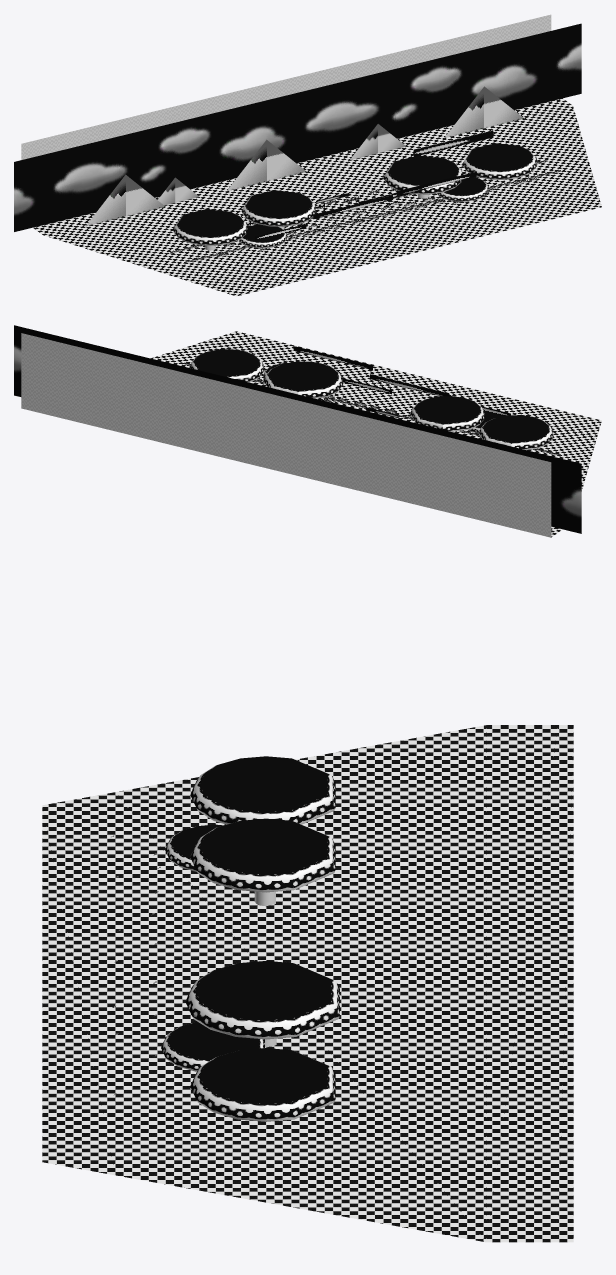
The model's file is CourseBackGroundW4.dae.
3 renders of one model, top to bottom at view 1: azimuth 30°, elevation 25°; view 2: azimuth 150°, elevation 25°; view 3: azimuth 270°, elevation 25°, orthographic. The views are drawn at different scales.
Parts seen in each view (by area): view 1: CourseBackGroundW4.001, CourseBackGroundW4.004, CourseBackGroundW4.007, CourseBackGroundW4, CourseBackGroundW4.005, CourseBackGroundW4.003, CourseBackGroundW4.002, CourseBackGroundW4.006; view 2: CourseBackGroundW4, CourseBackGroundW4.007, CourseBackGroundW4.001, CourseBackGroundW4.005, CourseBackGroundW4.004, CourseBackGroundW4.002, CourseBackGroundW4.006; view 3: CourseBackGroundW4.004, CourseBackGroundW4.007, CourseBackGroundW4.005.
Part boxes in pixels (x1,y1,x2,y2): CourseBackGroundW4.001: (14, 23, 581, 231); CourseBackGroundW4.004: (33, 98, 596, 286); CourseBackGroundW4.007: (173, 143, 536, 250); CourseBackGroundW4: (21, 14, 551, 159); CourseBackGroundW4.005: (205, 190, 601, 296); CourseBackGroundW4.003: (86, 86, 523, 226); CourseBackGroundW4.002: (255, 130, 493, 240); CourseBackGroundW4.006: (170, 160, 560, 263); CourseBackGroundW4: (21, 333, 551, 537); CourseBackGroundW4.007: (189, 349, 553, 449); CourseBackGroundW4.001: (14, 325, 581, 533); CourseBackGroundW4.005: (205, 331, 601, 436); CourseBackGroundW4.004: (150, 341, 596, 537); CourseBackGroundW4.002: (293, 346, 510, 418); CourseBackGroundW4.006: (184, 362, 560, 455); CourseBackGroundW4.004: (115, 725, 573, 1242); CourseBackGroundW4.007: (161, 756, 339, 1121); CourseBackGroundW4.005: (42, 792, 115, 1175).
Size of the model in its own units: 16523 by 6701 by 2149.
Materials: 10 (10 with a texture image).
